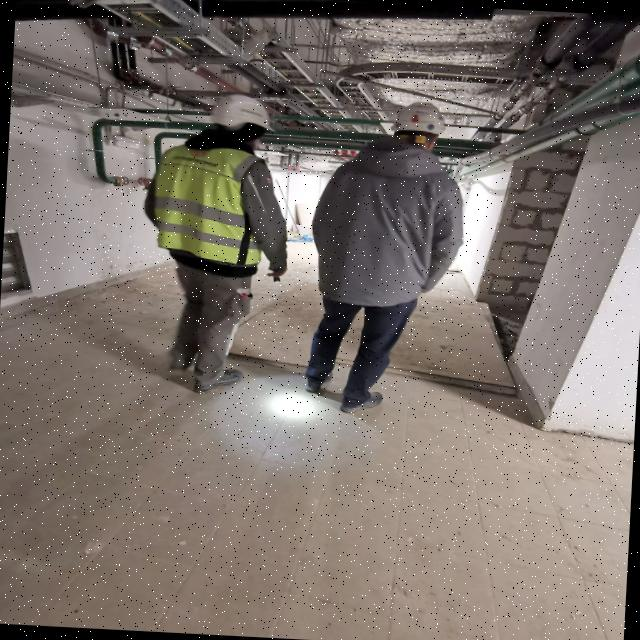Helmet: (205, 92, 280, 154), (389, 101, 453, 151)
